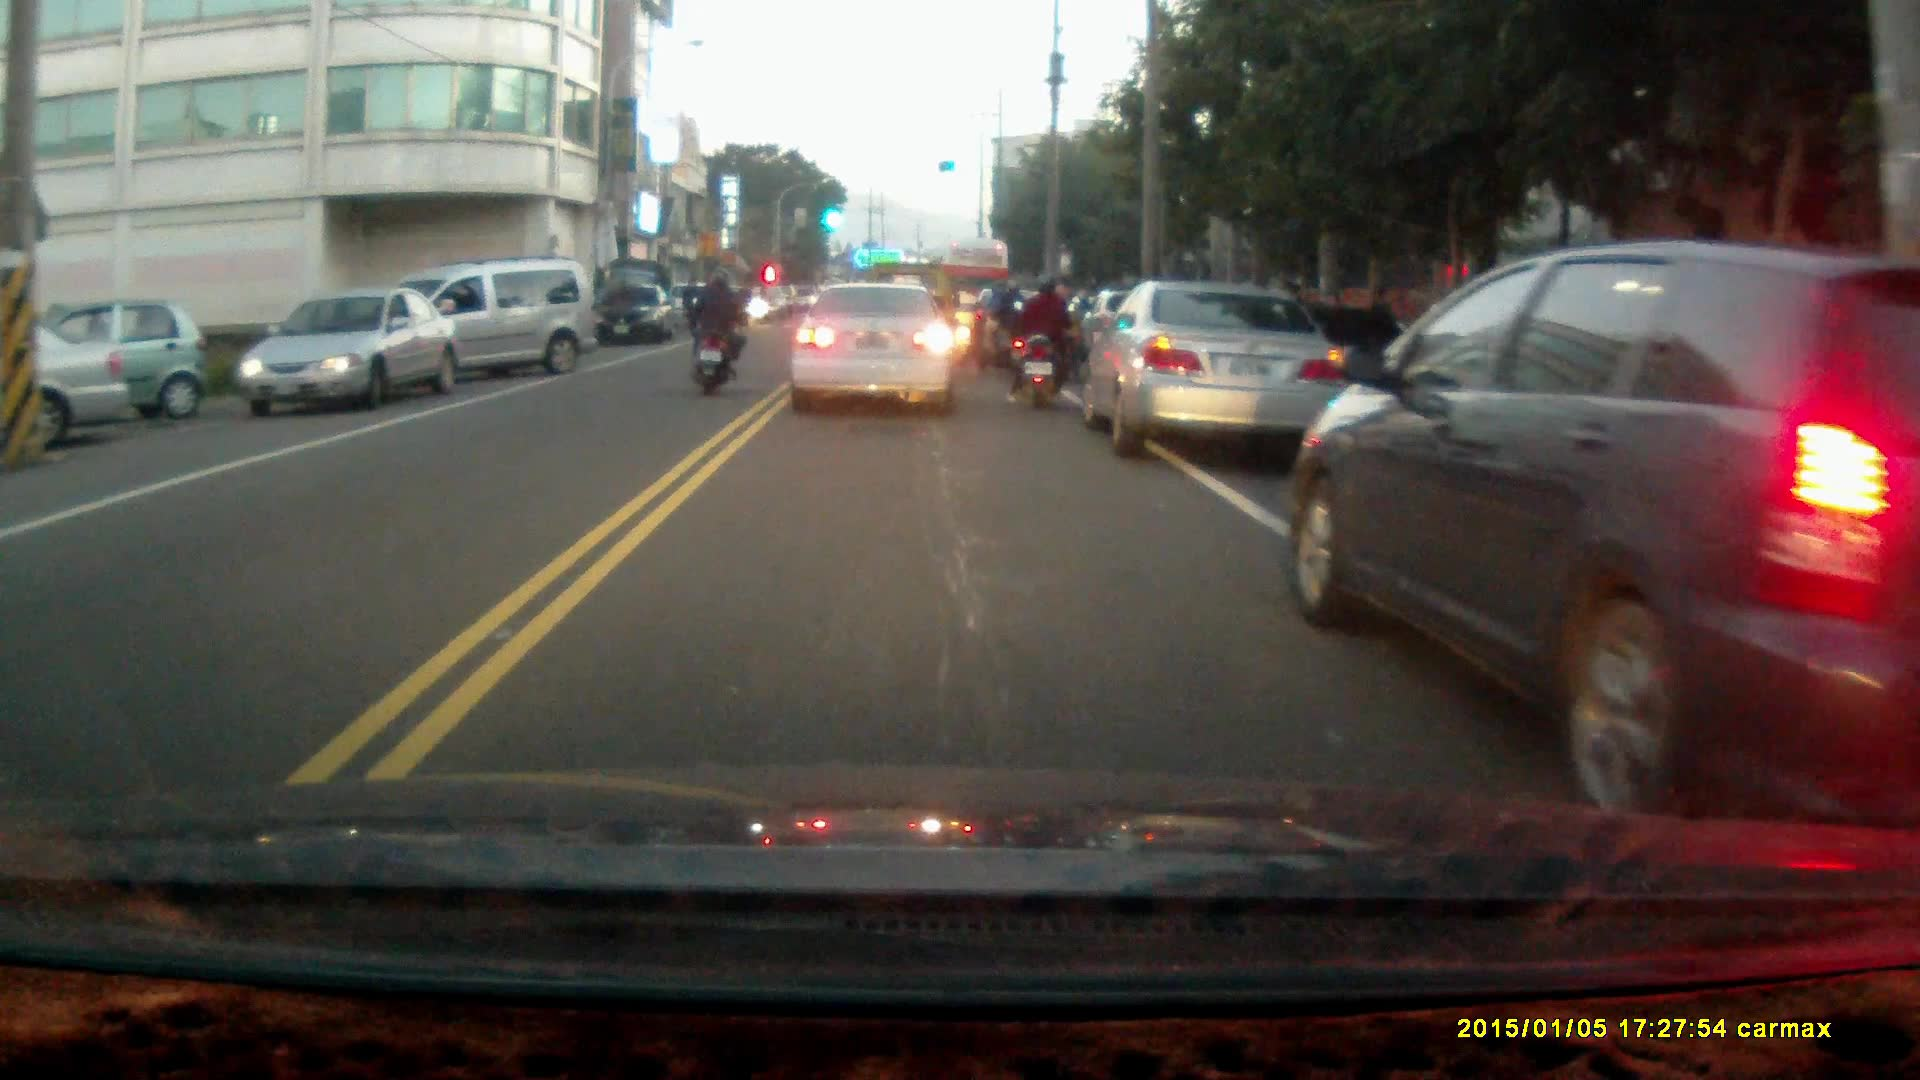rider: (1006, 269, 1078, 412), (687, 271, 746, 393), (971, 273, 1025, 377)
vehicle: (1281, 235, 1920, 814), (1075, 276, 1349, 457), (343, 258, 594, 396), (235, 290, 458, 417), (1, 296, 216, 425), (791, 285, 959, 414), (1, 322, 129, 454), (588, 284, 673, 349)
